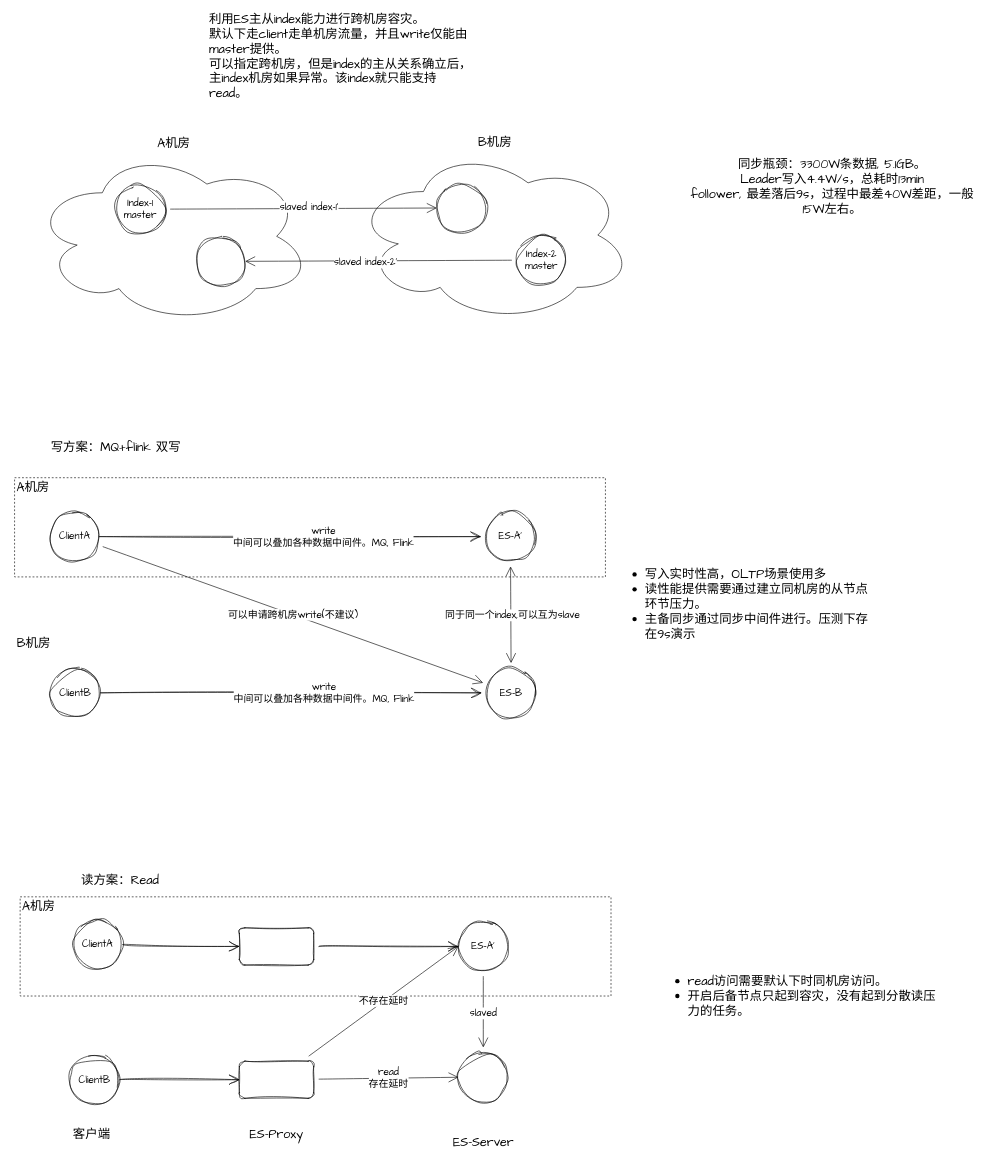
Some shapes in this 993 by 1162 pixel diagram are drawn without their labels. Each missing label, with the centre of its shape:
ES-B': (x=483, y=1077)
ES-Proxy-A‘: (x=276, y=946)
ES-Proxy-B‘: (x=276, y=1079)
Index-1 slave: (x=461, y=208)
Index-2' slave: (x=220, y=261)
